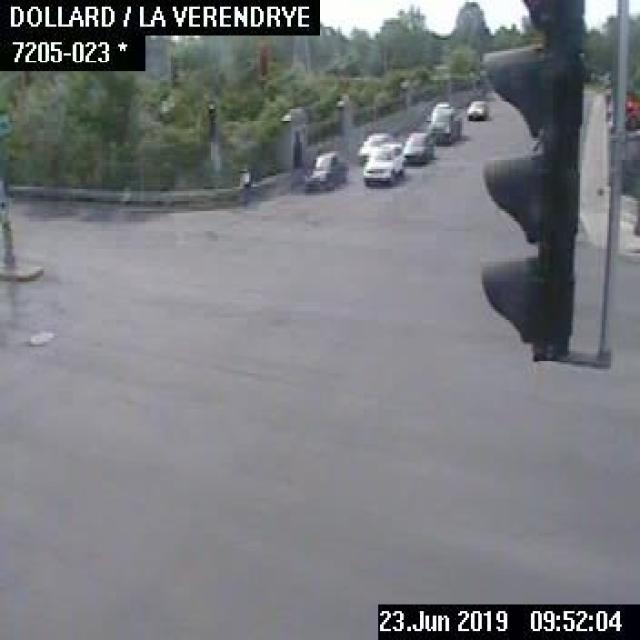pedestrian: (238, 160, 255, 211)
vehicle: (296, 148, 346, 190), (361, 141, 404, 187), (401, 129, 435, 166), (428, 107, 458, 147), (358, 130, 394, 159), (465, 96, 490, 124)
